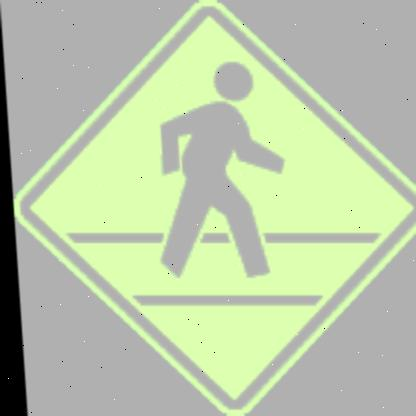Pedestrian Crossing: (16, 16, 416, 388)
